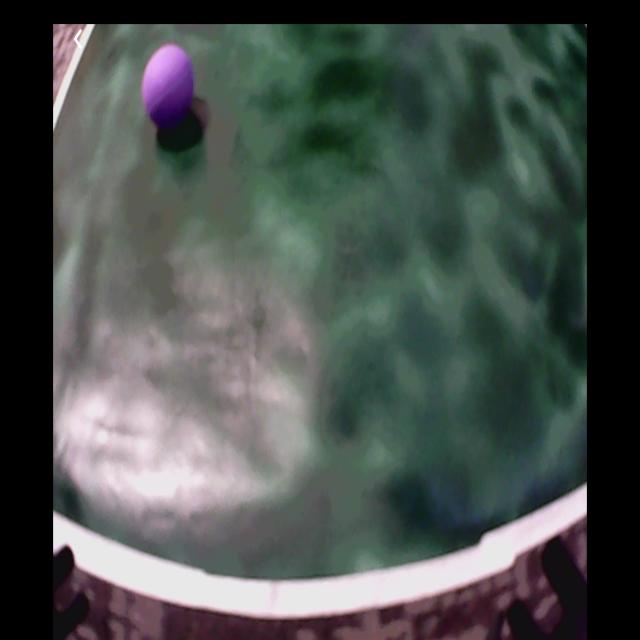ball: (142, 44, 193, 120)
